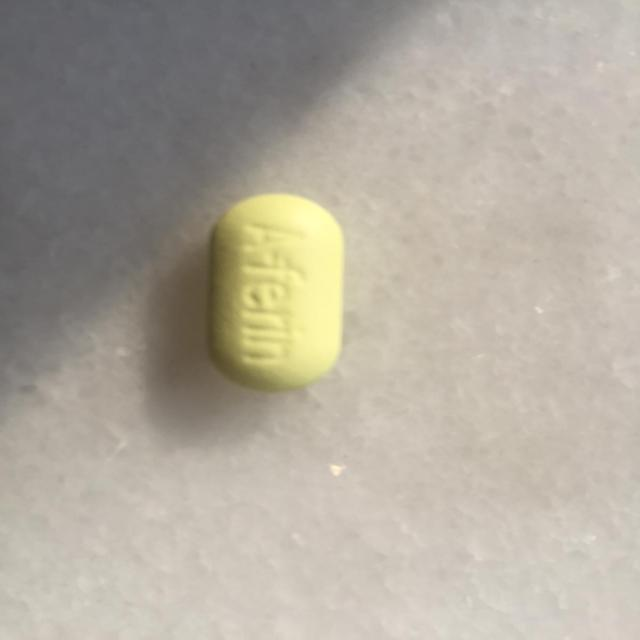pills: (194, 175, 358, 397)
